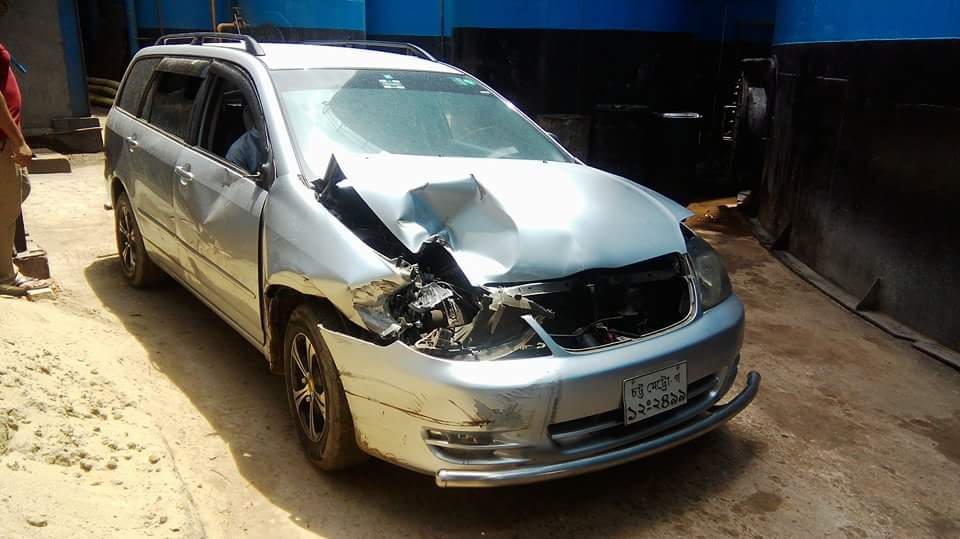registration_plate: (621, 359, 690, 427)
